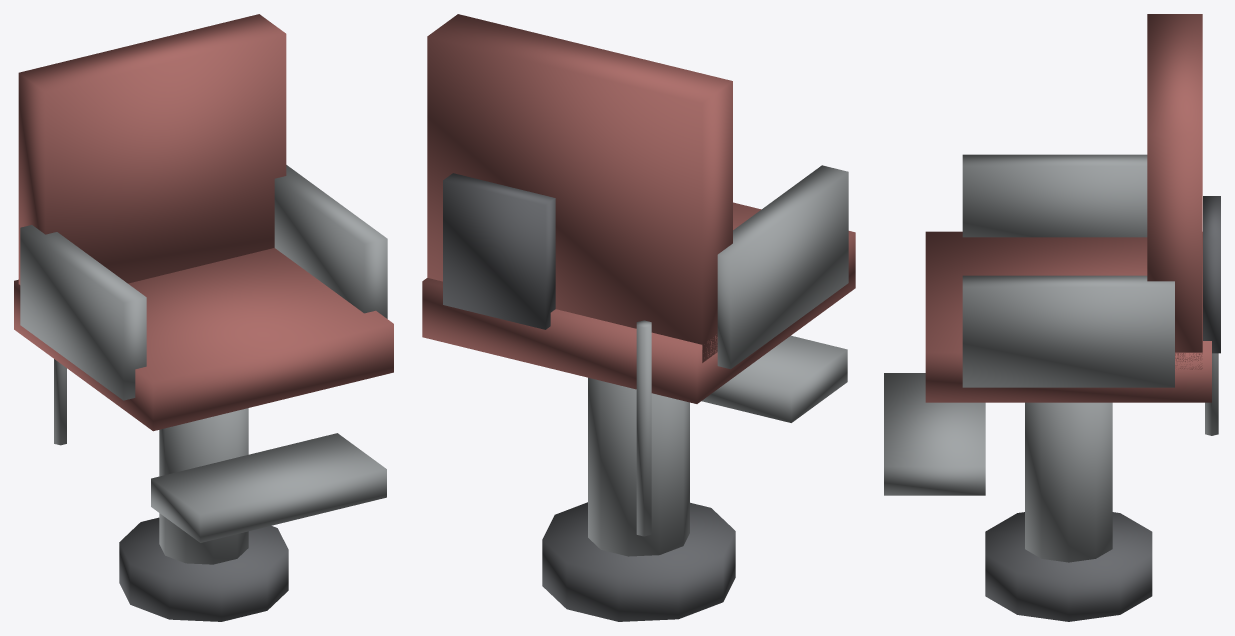
File: barber_chair__service.glb
The picture shows the model from 3 angles, left to right: view 1: azimuth 30°, elevation 25°; view 2: azimuth 150°, elevation 25°; view 3: azimuth 270°, elevation 25°; orthographic projection. The views are drawn at different scales.
Parts seen in each view (by area): view 1: world; view 2: world; view 3: world.
Part boxes in pixels (x1,y1,x2,y2): world: (14, 14, 393, 621); world: (422, 14, 855, 621); world: (884, 14, 1220, 621).
Size of the model in its own units: 0.68 by 1.22 by 0.7295.
